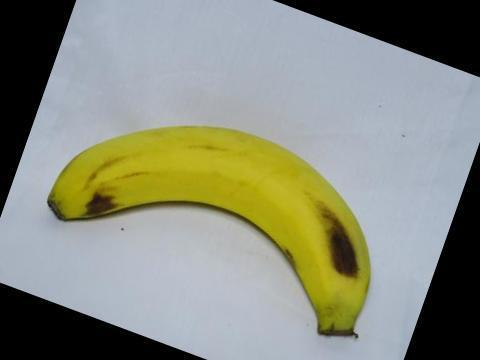freshripe: (31, 114, 378, 348)
